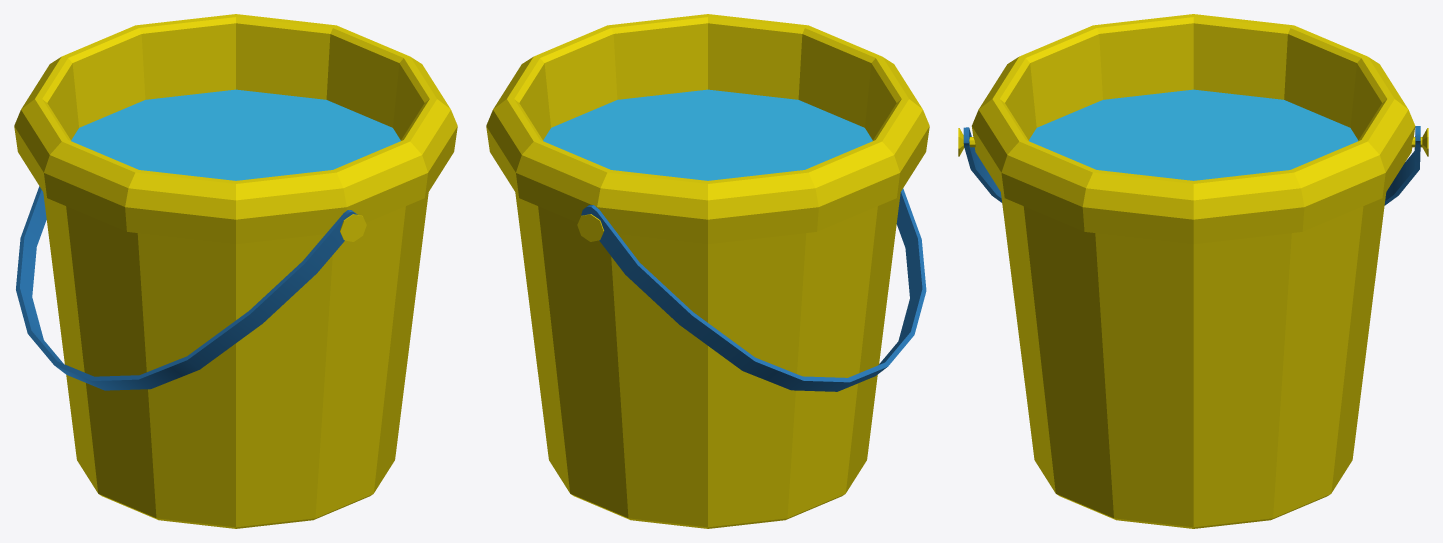
Rendered from full_bucket.fbx.
3 renders of one model, left to right at view 1: azimuth 30°, elevation 25°; view 2: azimuth 150°, elevation 25°; view 3: azimuth 270°, elevation 25°, orthographic.
Parts seen in each view (by area): view 1: bucket3; view 2: bucket3; view 3: bucket3.
Boxes of the visible parts, bbox=[...] form: bucket3: bbox=[14, 14, 457, 528]; bucket3: bbox=[486, 14, 929, 528]; bucket3: bbox=[958, 14, 1428, 528].
Size of the model in its own units: 0.8155 by 0.7519 by 0.8645.
